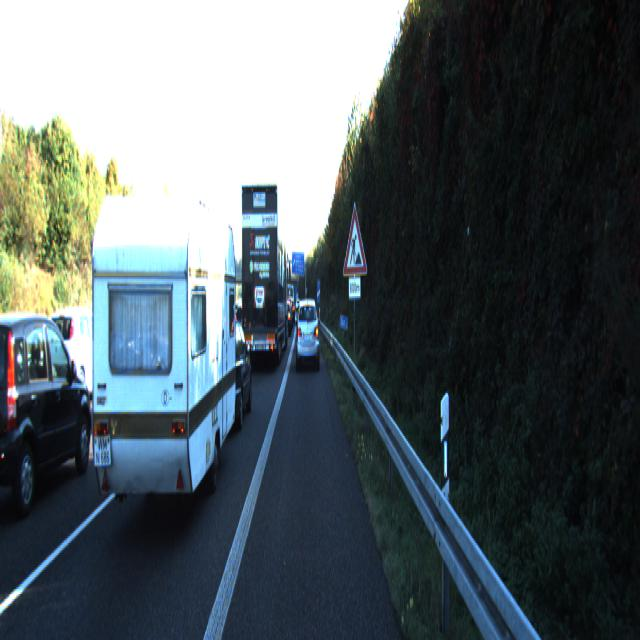Car: (92, 173, 237, 550), (0, 315, 97, 527), (241, 182, 288, 371), (44, 308, 116, 414), (195, 316, 252, 436), (296, 296, 320, 369)
